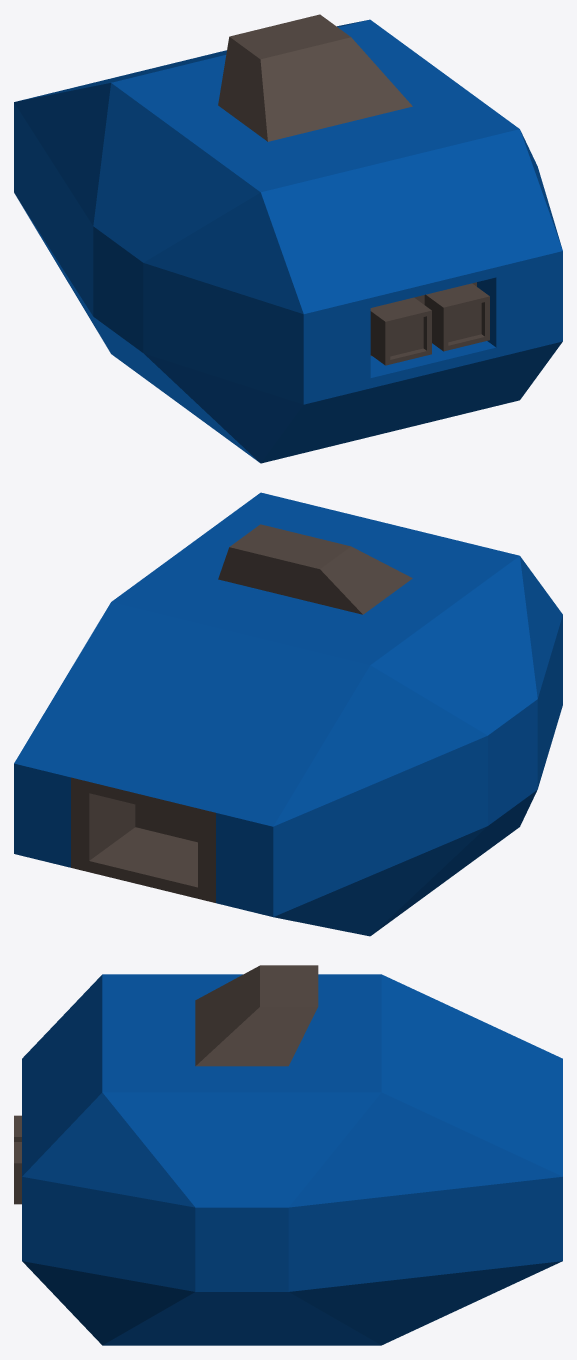
Rendered from hovercraft.fbx.
The picture shows the model from 3 angles, top to bottom: view 1: azimuth 30°, elevation 25°; view 2: azimuth 150°, elevation 25°; view 3: azimuth 270°, elevation 25°; orthographic projection. The views are drawn at different scales.
Parts seen in each view (by area): view 1: Cube.025, Cube.026; view 2: Cube.025; view 3: Cube.025, Cube.026.
Boxes of the visible parts, x1,y1,x2,y2 form: Cube.025: (14,14,562,463); Cube.026: (370,282,489,365); Cube.025: (14,492,562,936); Cube.025: (22,965,562,1345); Cube.026: (14,1115,21,1204).
Size of the model in its own units: 572 by 446 by 739.
